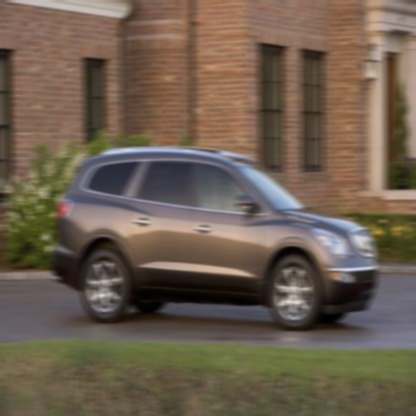Vehicle: (50, 142, 378, 330)
